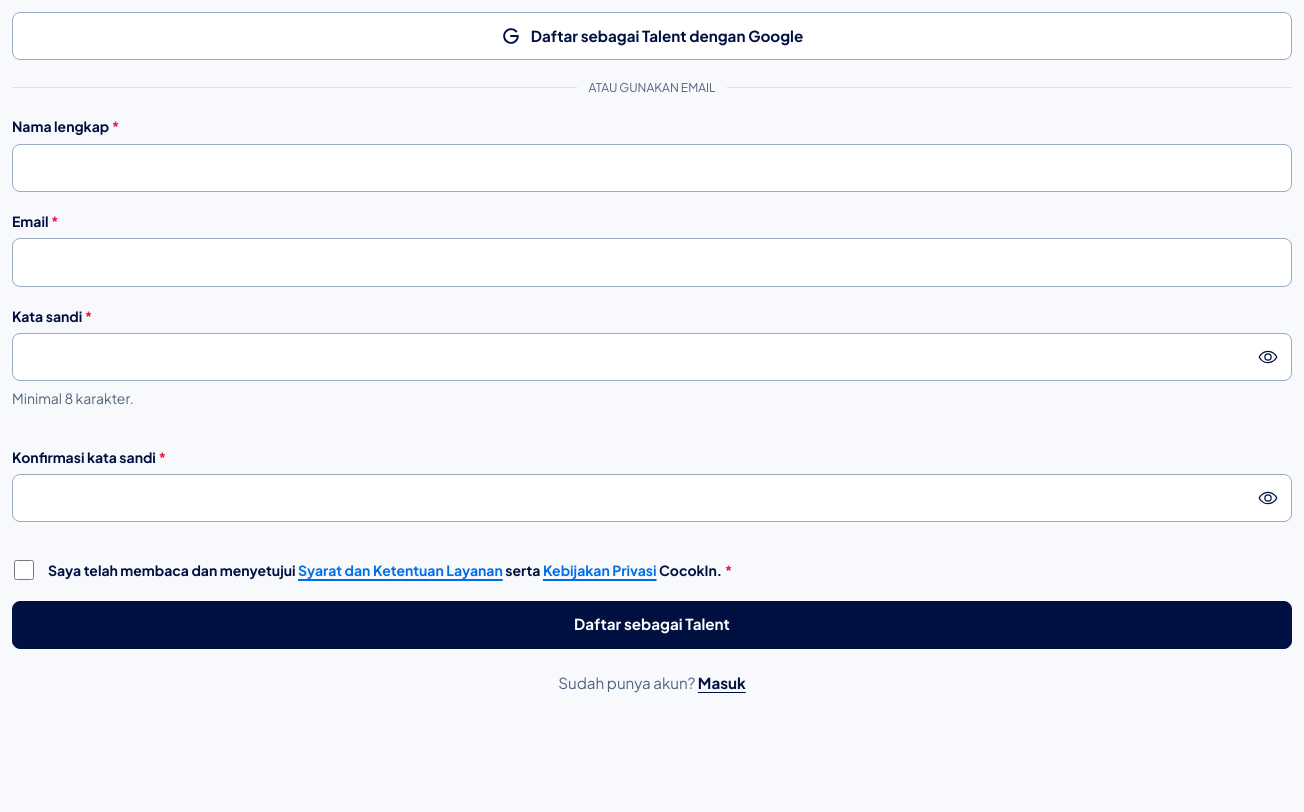
RegistrationForm › shows live password strength and confirmation feedback
In the password field labelled "Kata sandi *": {"x": 652, "y": 357} left=12, top=333, right=1292, bottom=381, type "aman1234"
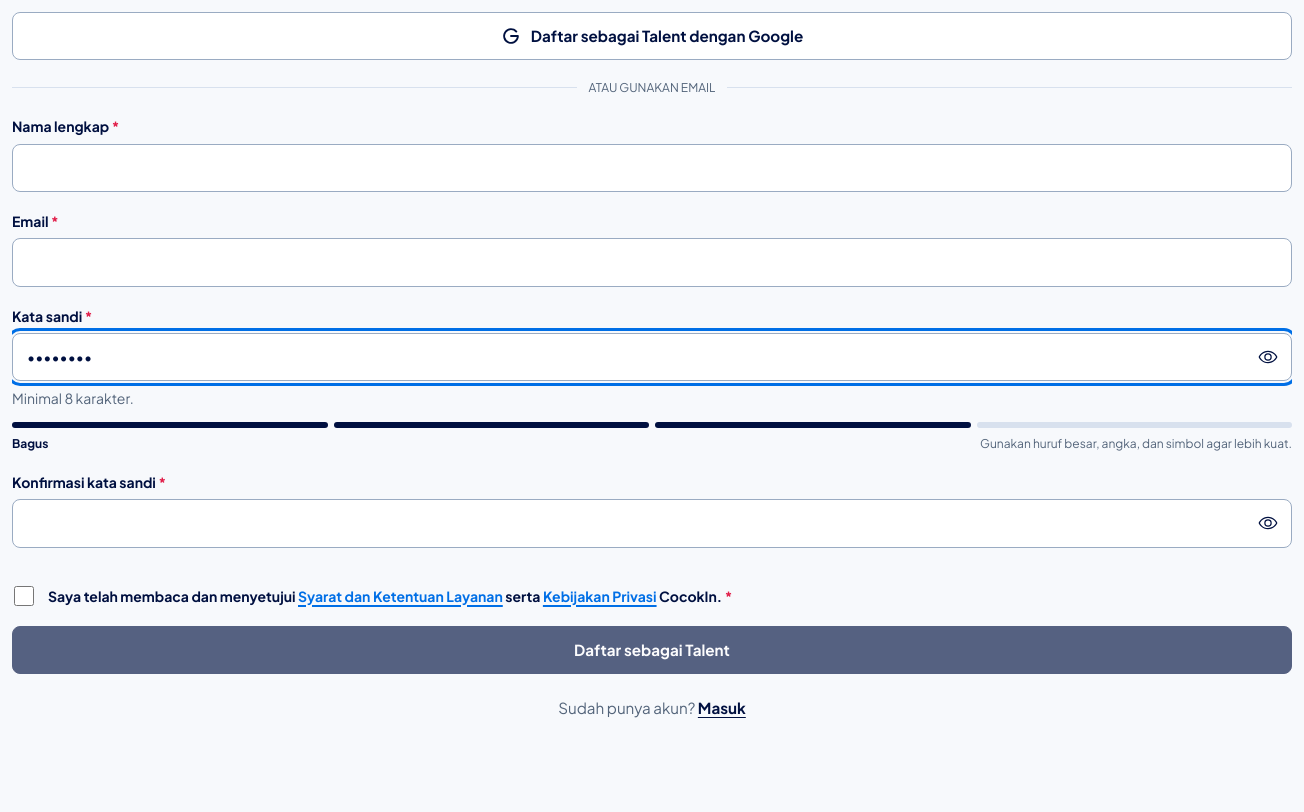
Expected: the text "Bagus" is shown, left=12, top=434, right=48, bottom=453
In the password field labelled "Konfirmasi kata sandi *": {"x": 652, "y": 523} left=12, top=499, right=1292, bottom=548, type "beda123"
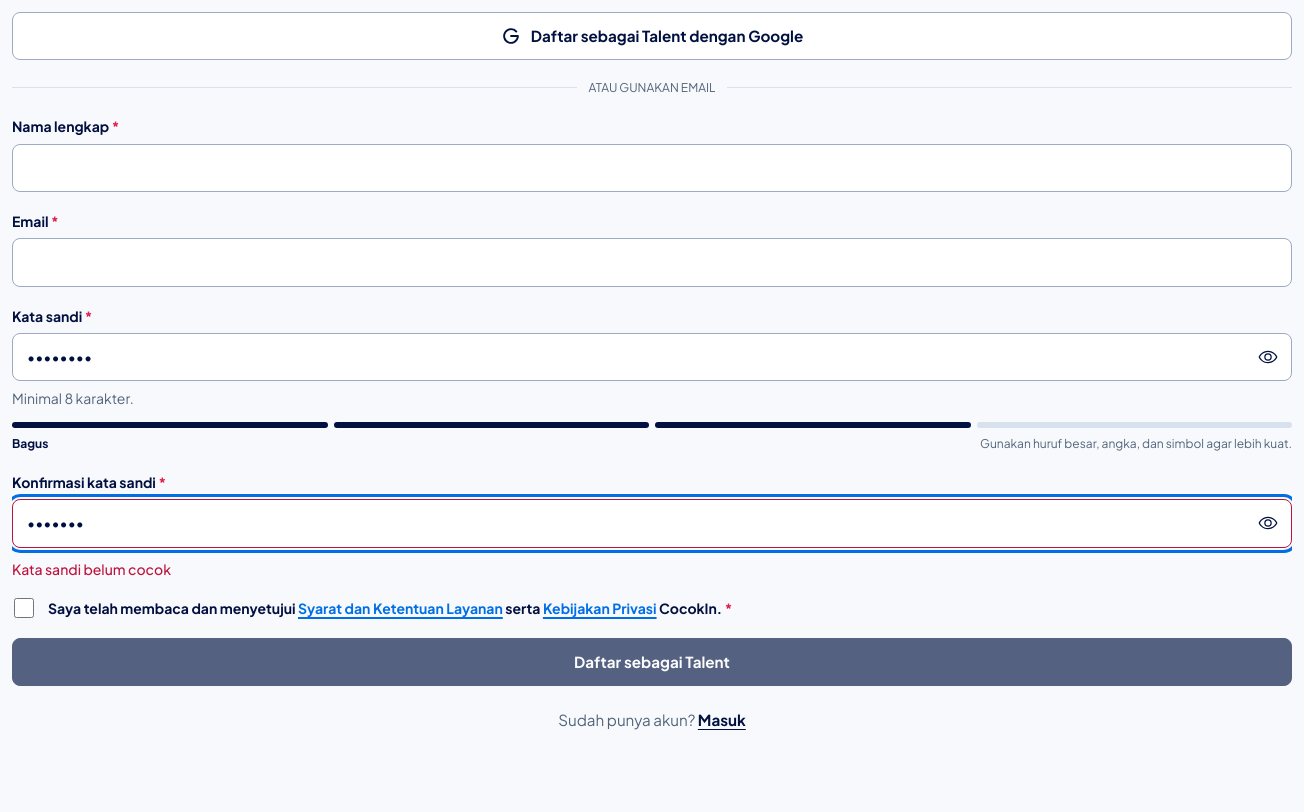
Expected: the button "Daftar sebagai Talent" is disabled, left=12, top=638, right=1292, bottom=686
Expected: the text "Kata sandi belum cocok" is shown, left=12, top=560, right=171, bottom=578
In the password field labelled "Konfirmasi kata sandi *": {"x": 652, "y": 523} left=12, top=499, right=1292, bottom=548, type "aman1234"
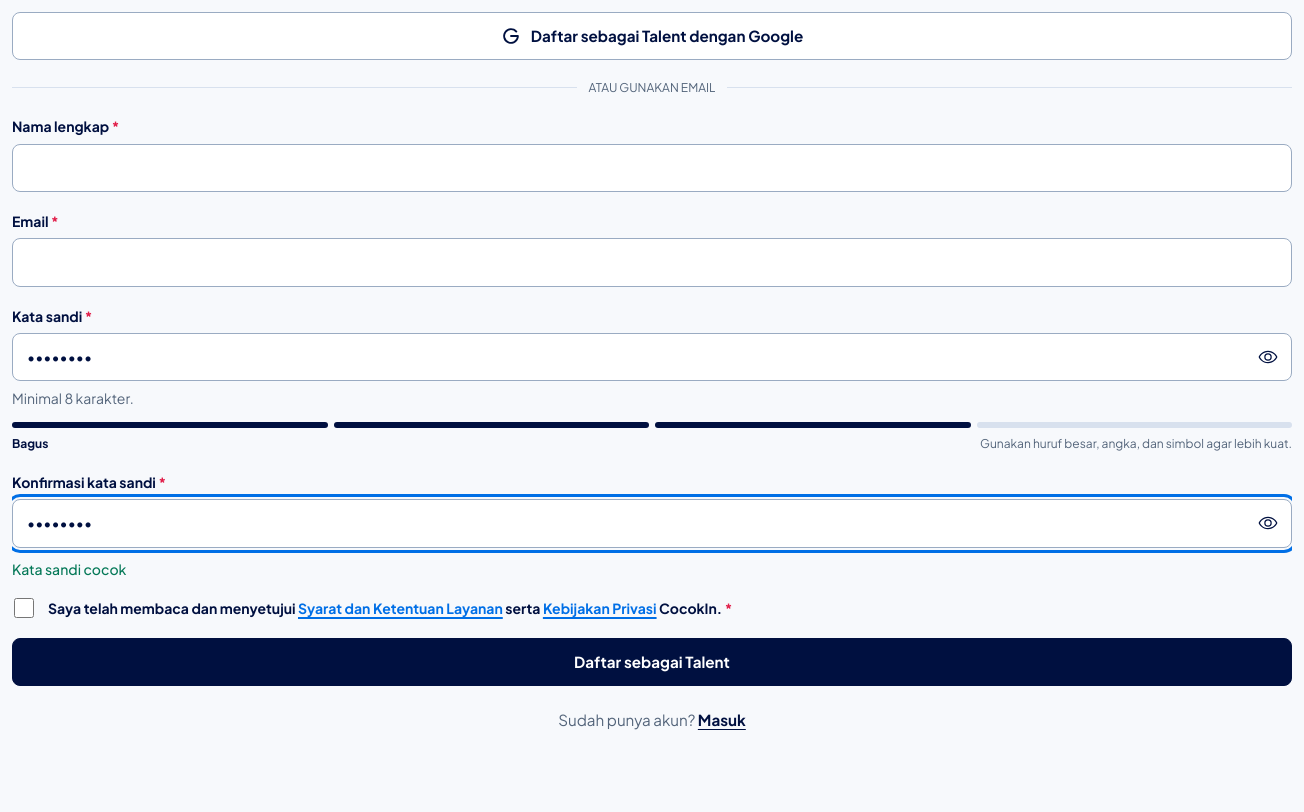
Expected: the text "Kata sandi cocok" is shown, left=12, top=560, right=126, bottom=578
Expected: the button "Daftar sebagai Talent" is enabled, left=12, top=638, right=1292, bottom=686
